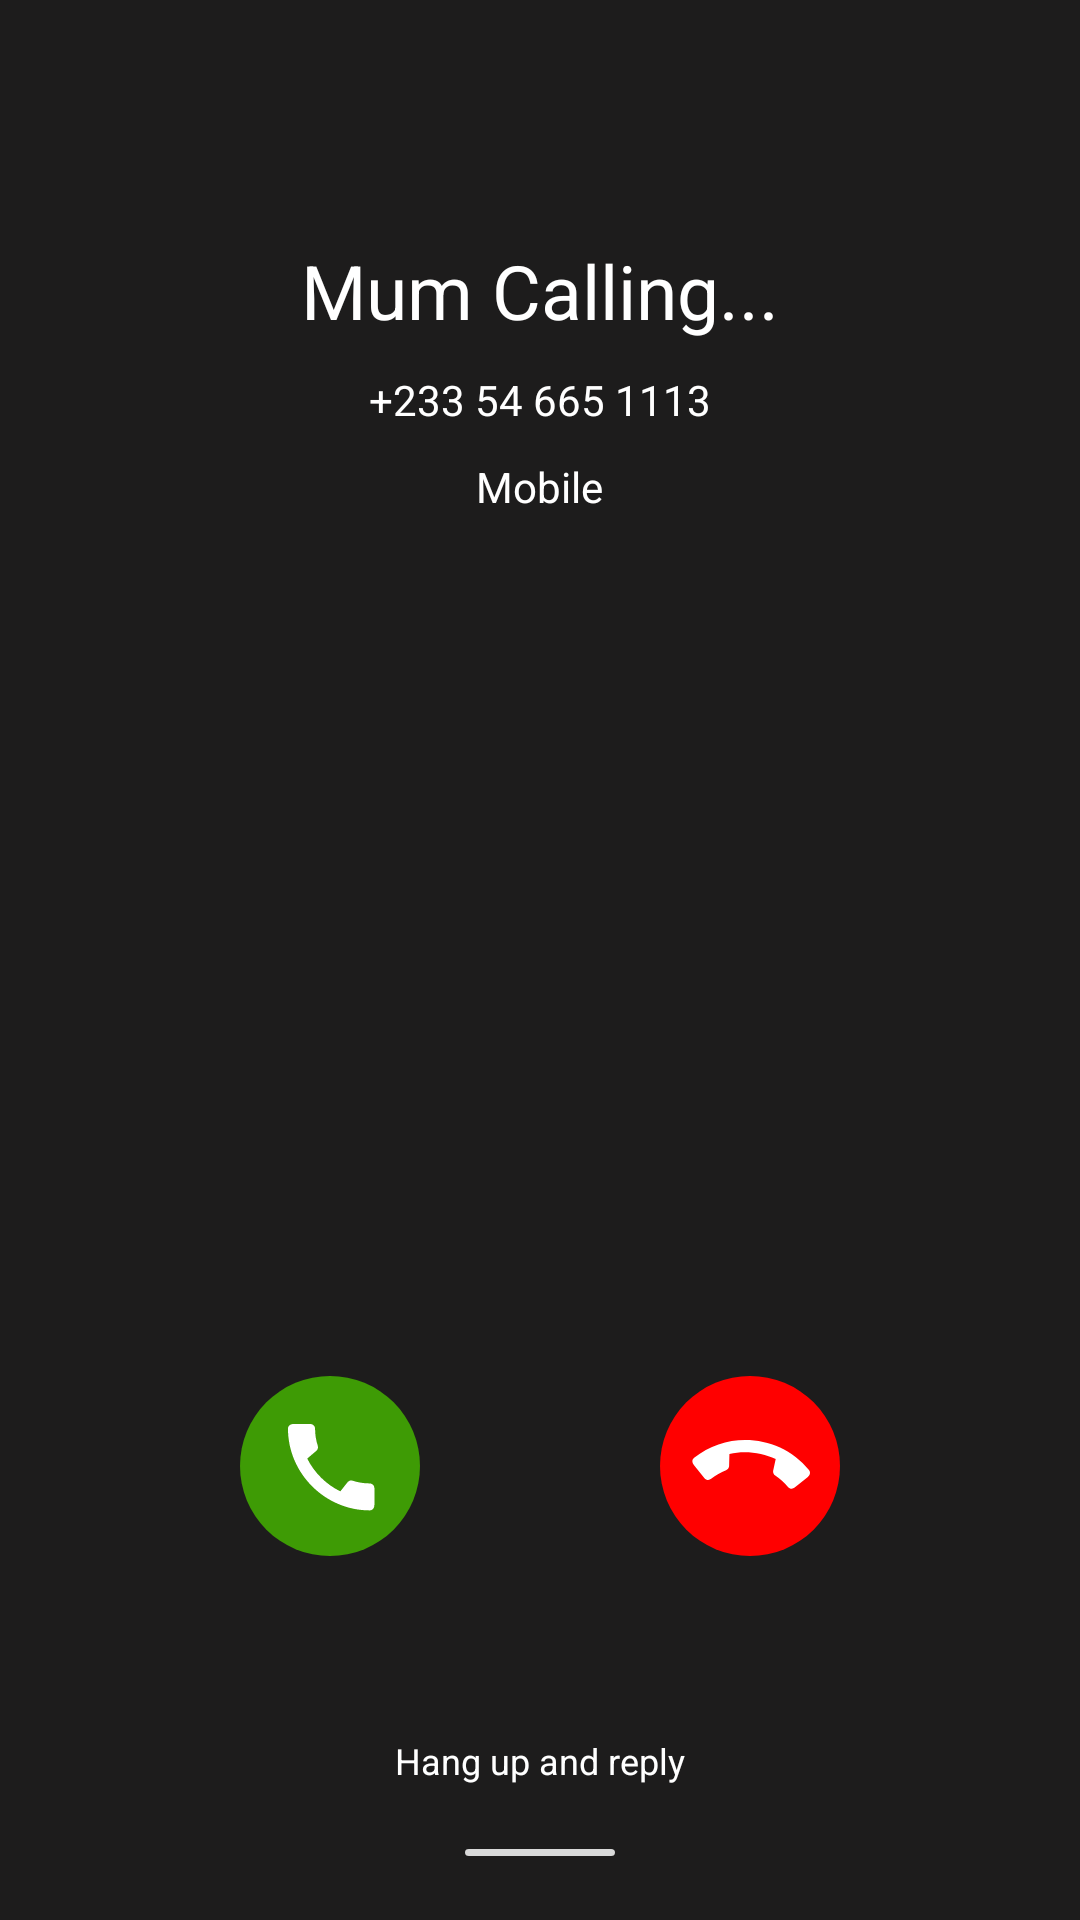

Where to tap for icons on this 1080 x 1920 app screen, as (x=x, y=y):
accept: (x=330, y=1466)
decline: (x=750, y=1466)
